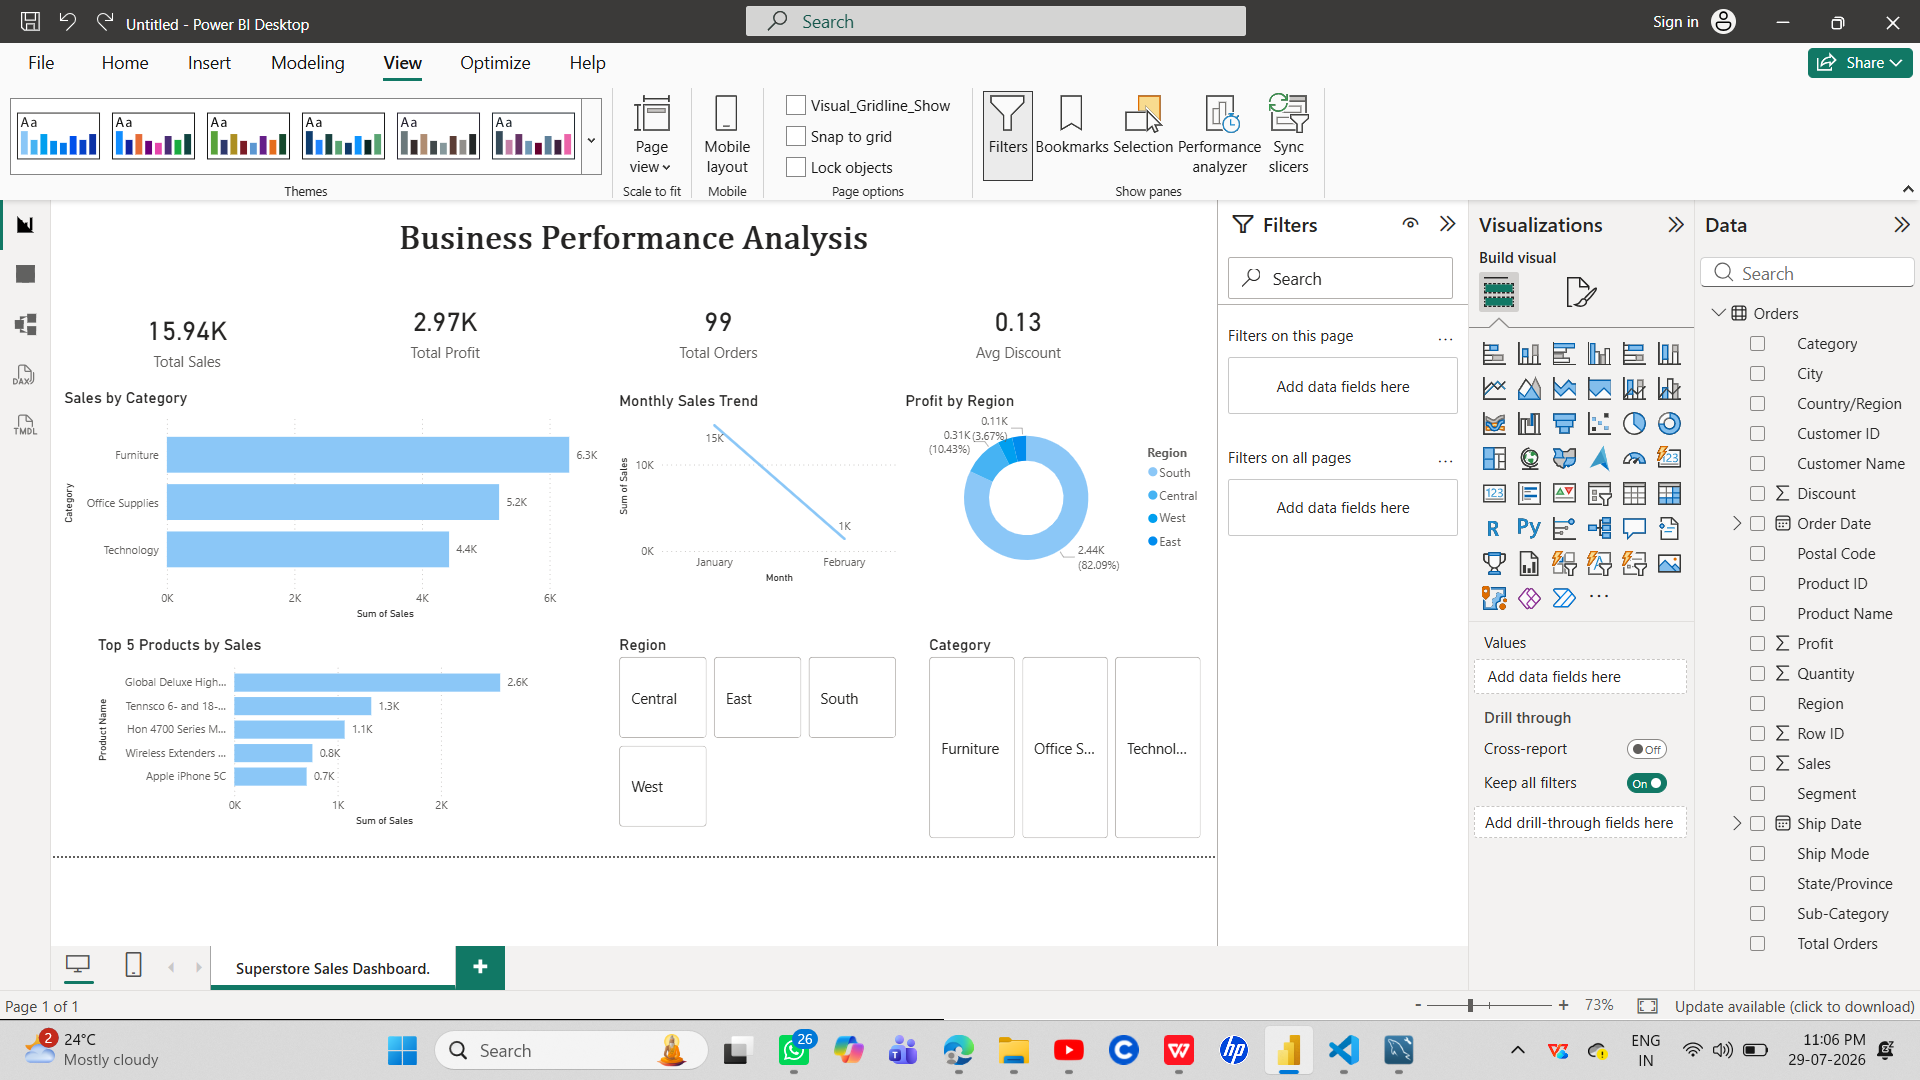

The page's visual inventory and layout, read from the dashboard file:
{"tool":"powerbi","page":{"name":"Superstore Sales Dashboard.","canvas":[1280,720],"ordinal":0},"visuals":[{"type":"card","title":"Total Sales","fields":{"Values":["Sum(Orders.Sales)"]},"box":[9.6,78.2,279.9,129],"z":0},{"type":"card","fields":{"Values":["Sum(Orders.Profit)"]},"box":[322.5,78.2,220.9,129],"z":1},{"type":"card","fields":{"Values":["CountNonNull(Orders.Order ID)"]},"box":[592.8,78.2,279.9,129],"z":2},{"type":"card","fields":{"Values":["Avg(Orders.Discount)"]},"box":[922.1,78.2,279.9,129],"z":3},{"type":"textbox","box":[9.6,16.5,1259.7,82.3],"z":4},{"type":"clusteredBarChart","title":"Sales by Category","fields":{"Category":["Orders.Category"],"Y":["Sum(Orders.Sales)"]},"box":[9.6,207.2,609.3,258],"z":5},{"type":"donutChart","title":"Profit by Region","fields":{"Category":["Orders.Region"],"Y":["Sum(Orders.Profit)"]},"box":[933.1,209.9,340.3,215.4],"z":6},{"type":"lineChart","title":"Monthly Sales Trend","fields":{"Y":["Sum(Orders.Sales)"],"Category":["Orders.Order Date.Variation.Date Hierarchy.Month"]},"box":[602.9,210.3,330.2,242.1],"z":7},{"type":"clusteredBarChart","title":"Top 5 Products by Sales","fields":{"Category":["Orders.Product Name"],"Y":["Sum(Orders.Sales)"]},"box":[46.7,477.5,496.7,215.4],"z":8},{"type":"advancedSlicerVisual","fields":{"Values":["Orders.Region"]},"box":[618.9,477.5,314.2,215.4],"z":9},{"type":"advancedSlicerVisual","fields":{"Values":["Orders.Category"]},"box":[959.2,477.5,310.1,229.2],"z":10}]}

Visuals, with their boxes on the page's 1280x720 design canvas (x1, y1, x2, y2). These are canvas units, not pixel positions in the 1920x1080 screenshot, which may show the page scaled, cropped or inside an application window:
"Total Sales" card: rect(10, 78, 290, 207)
card - Sum(Orders.Profit): rect(322, 78, 543, 207)
card - CountNonNull(Orders.Order ID): rect(593, 78, 873, 207)
card - Avg(Orders.Discount): rect(922, 78, 1202, 207)
textbox: rect(10, 16, 1269, 99)
"Sales by Category" clusteredBarChart: rect(10, 207, 619, 465)
"Profit by Region" donutChart: rect(933, 210, 1273, 425)
"Monthly Sales Trend" lineChart: rect(603, 210, 933, 452)
"Top 5 Products by Sales" clusteredBarChart: rect(47, 478, 543, 693)
advancedSlicerVisual - Orders.Region: rect(619, 478, 933, 693)
advancedSlicerVisual - Orders.Category: rect(959, 478, 1269, 707)
